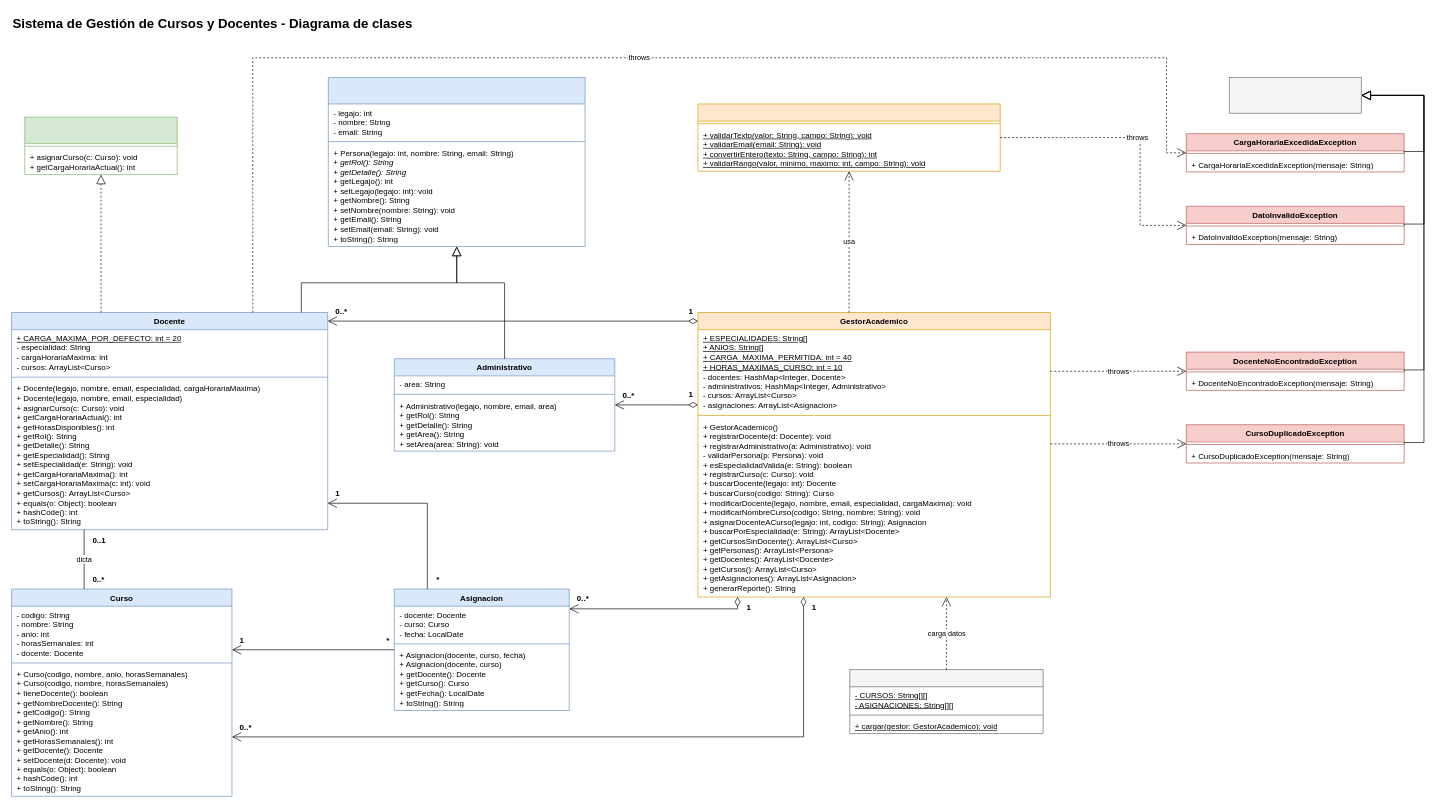
This 1445x809 diagram has some shape labels left out. The shapes that lost their labels are listed below. From the top down, each one's box as (x1, y1, x2, y2) in pixels, then its label:
(1229, 77, 1361, 113): «java.lang» Exception
(24, 116, 177, 175): «interface» Asignable
(697, 103, 1000, 171): Validador
(328, 77, 585, 247): «abstract» Persona
(849, 669, 1043, 734): DatosPrueba
